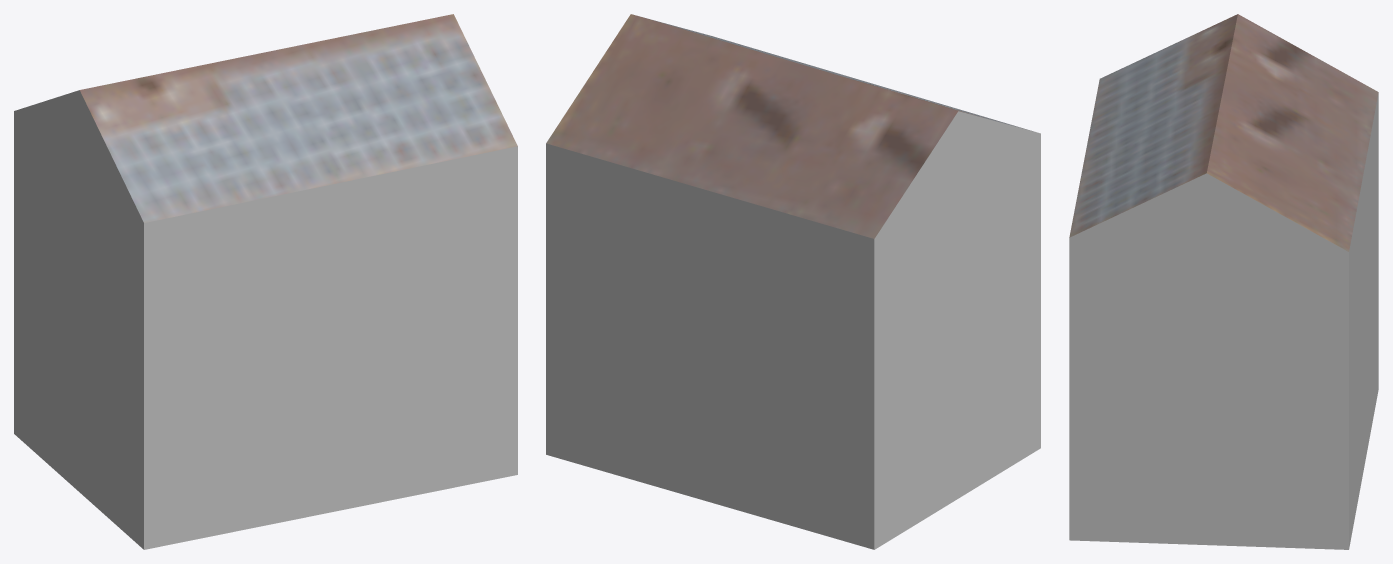
File: DEBW_0010007Tx2Y.gltf
3 views of the same model, side by side, from view 1: azimuth 30°, elevation 25°; view 2: azimuth 150°, elevation 25°; view 3: azimuth 270°, elevation 25° (orthographic). The views are drawn at different scales.
Visible parts, largest first — view 1: Z_UP; view 2: Z_UP; view 3: Z_UP.
Part boxes in pixels (left/top/right/bottom): Z_UP: left=14, top=14, right=517, bottom=549; Z_UP: left=546, top=14, right=1040, bottom=549; Z_UP: left=1069, top=14, right=1378, bottom=549.
Bounding box in the file's own units: 15.89 × 16.19 × 12.21.
Materials: 2 (1 with a texture image).
